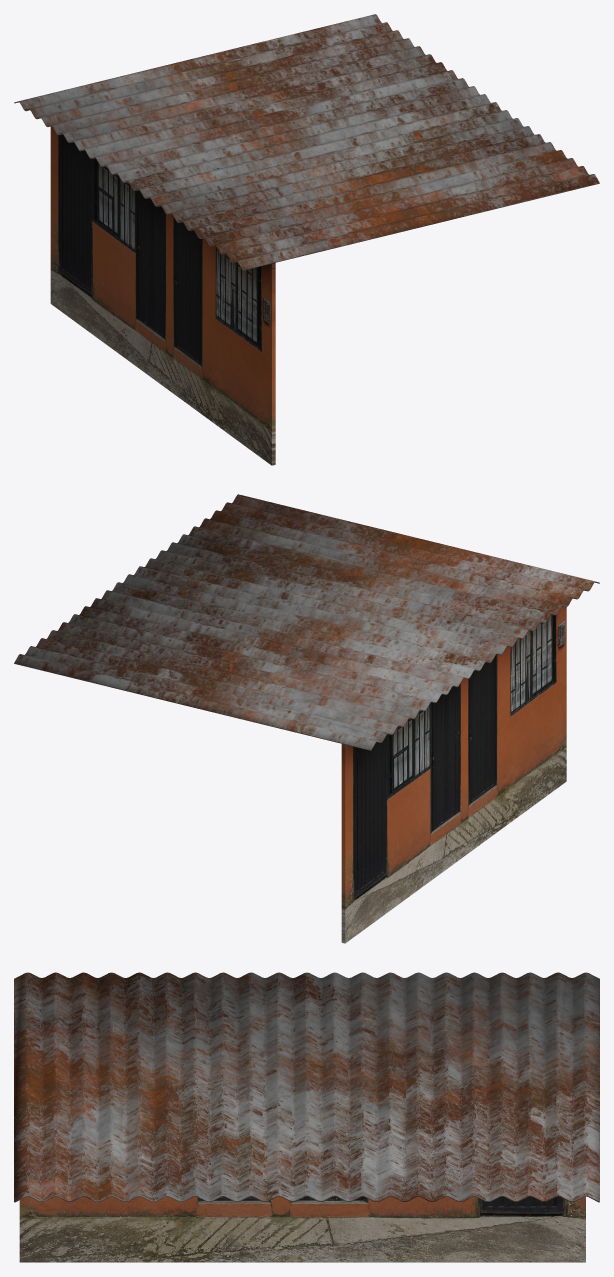
The model's file is casaA_derecha_05.fbx.
The picture shows the model from 3 angles, top to bottom: view 1: azimuth 30°, elevation 25°; view 2: azimuth 150°, elevation 25°; view 3: azimuth 270°, elevation 25°; orthographic projection. The views are drawn at different scales.
Parts seen in each view (by area): view 1: CorrigatedPanel-2x2.011, casaA_derecha_05.001; view 2: CorrigatedPanel-2x2.011, casaA_derecha_05.001; view 3: CorrigatedPanel-2x2.011, casaA_derecha_05.001.
Part boxes in pixels (left/top/right/bottom): CorrigatedPanel-2x2.011: left=14, top=14, right=599, bottom=270; casaA_derecha_05.001: left=50, top=126, right=275, bottom=465; CorrigatedPanel-2x2.011: left=14, top=494, right=599, bottom=750; casaA_derecha_05.001: left=341, top=606, right=566, bottom=943; CorrigatedPanel-2x2.011: left=14, top=972, right=599, bottom=1202; casaA_derecha_05.001: left=19, top=1196, right=585, bottom=1262.
Size of the model in its own units: 567 by 318 by 630.
